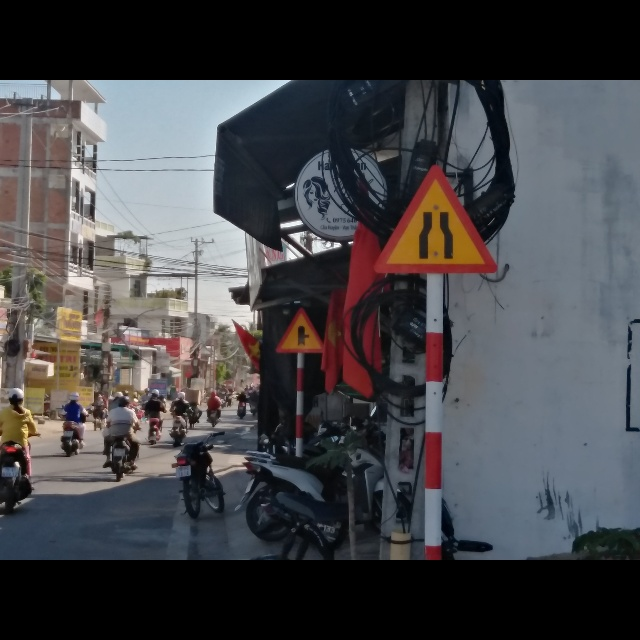Giao nhau với đường không ưu tiên: (274, 308, 325, 356)
Đường bị hẹp cả hai bên: (372, 161, 502, 275)
